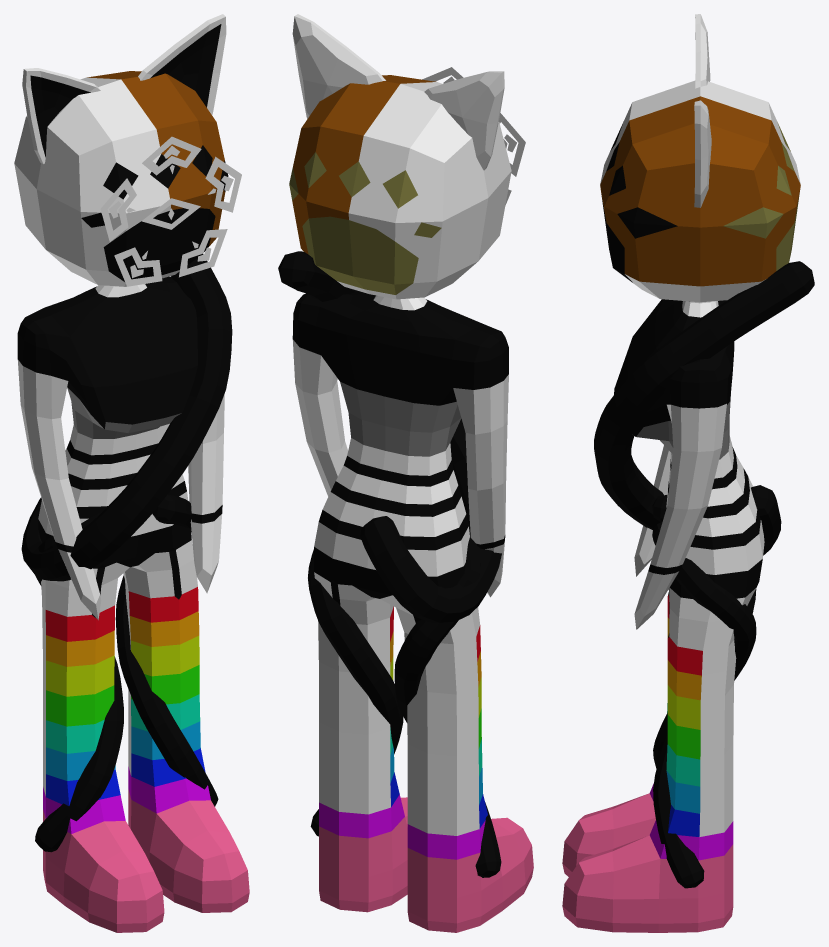
Rendered from ceta.fbx.
The picture shows the model from 3 angles, left to right: view 1: azimuth 30°, elevation 25°; view 2: azimuth 150°, elevation 25°; view 3: azimuth 270°, elevation 25°; orthographic projection. The views are drawn at different scales.
Visible parts, largest first — view 1: Cube; view 2: Cube; view 3: Cube.
Boxes of the visible parts, x1,y1,x2,y2 form: Cube: [14, 14, 249, 932]; Cube: [278, 14, 533, 932]; Cube: [562, 14, 814, 932].
Size of the model in its own units: 51.81 by 204 by 55.51.
